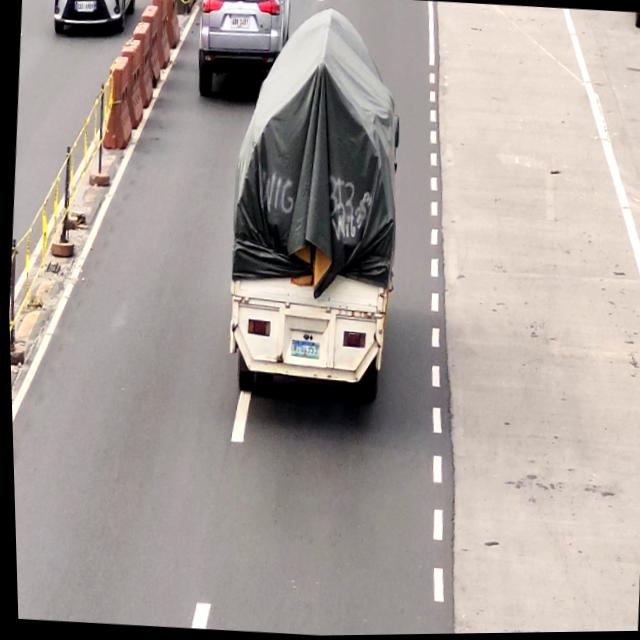Car: (193, 0, 293, 101)
License-Plate: (286, 338, 319, 364), (228, 13, 251, 31)
Truck: (219, 6, 406, 400)
